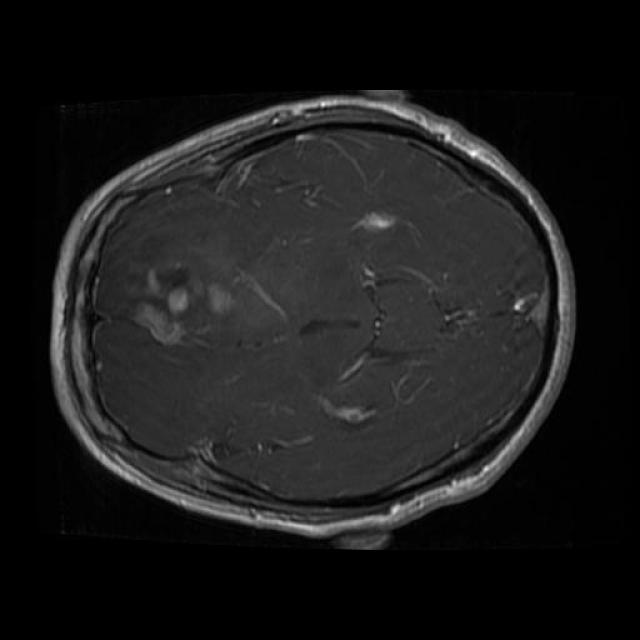Glioma: (121, 266, 235, 345)
